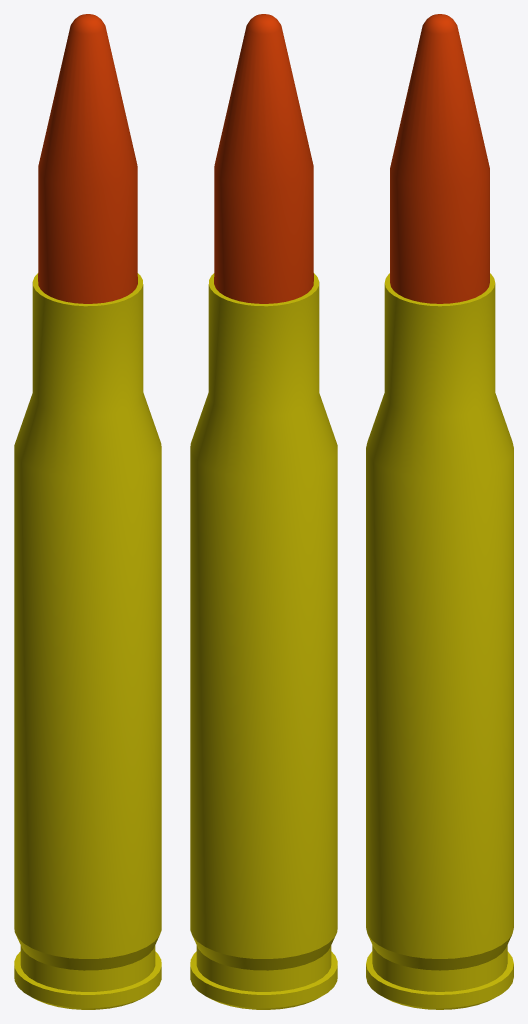
File: 50bmg.fbx
3 views of the same model, side by side, from view 1: azimuth 30°, elevation 25°; view 2: azimuth 150°, elevation 25°; view 3: azimuth 270°, elevation 25° (orthographic).
Visible parts, largest first — view 1: Cylinder; view 2: Cylinder; view 3: Cylinder.
Boxes of the visible parts, left/top/right/bottom form: Cylinder: left=14, top=14, right=161, bottom=1009; Cylinder: left=190, top=14, right=337, bottom=1009; Cylinder: left=366, top=14, right=513, bottom=1009.
Bounding box in the file's own units: 1.92 × 13.83 × 1.92.
